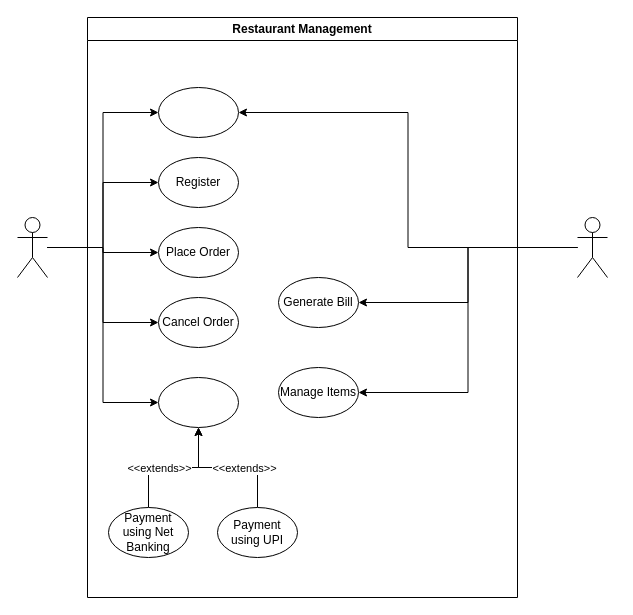
This 633x615 diagram has some shape labels left out. The shapes that lost their labels are listed below. From the top down, each one's centre as x and y in pixels, then its label:
At (198,112): "Login".
At (32,247): "User".
At (592,247): "Manager".
At (198,402): "Payment".
